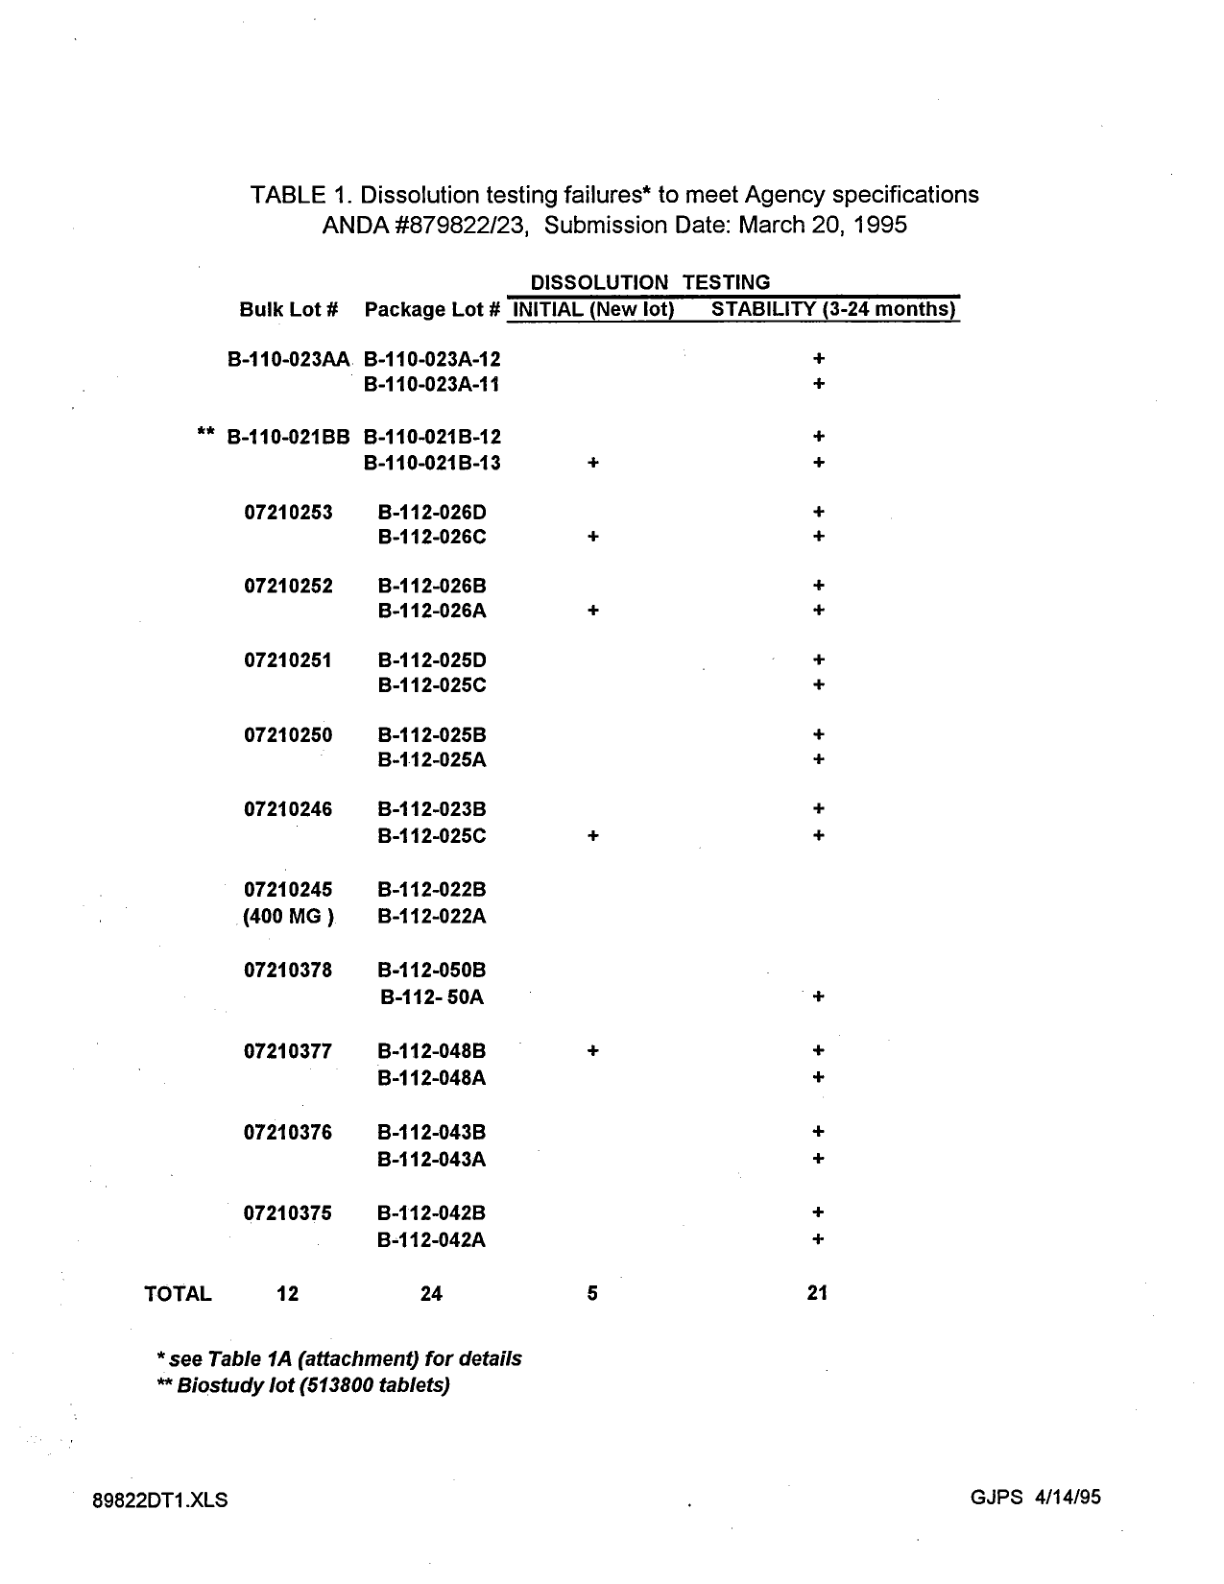nolines: (138, 270, 964, 1306)
